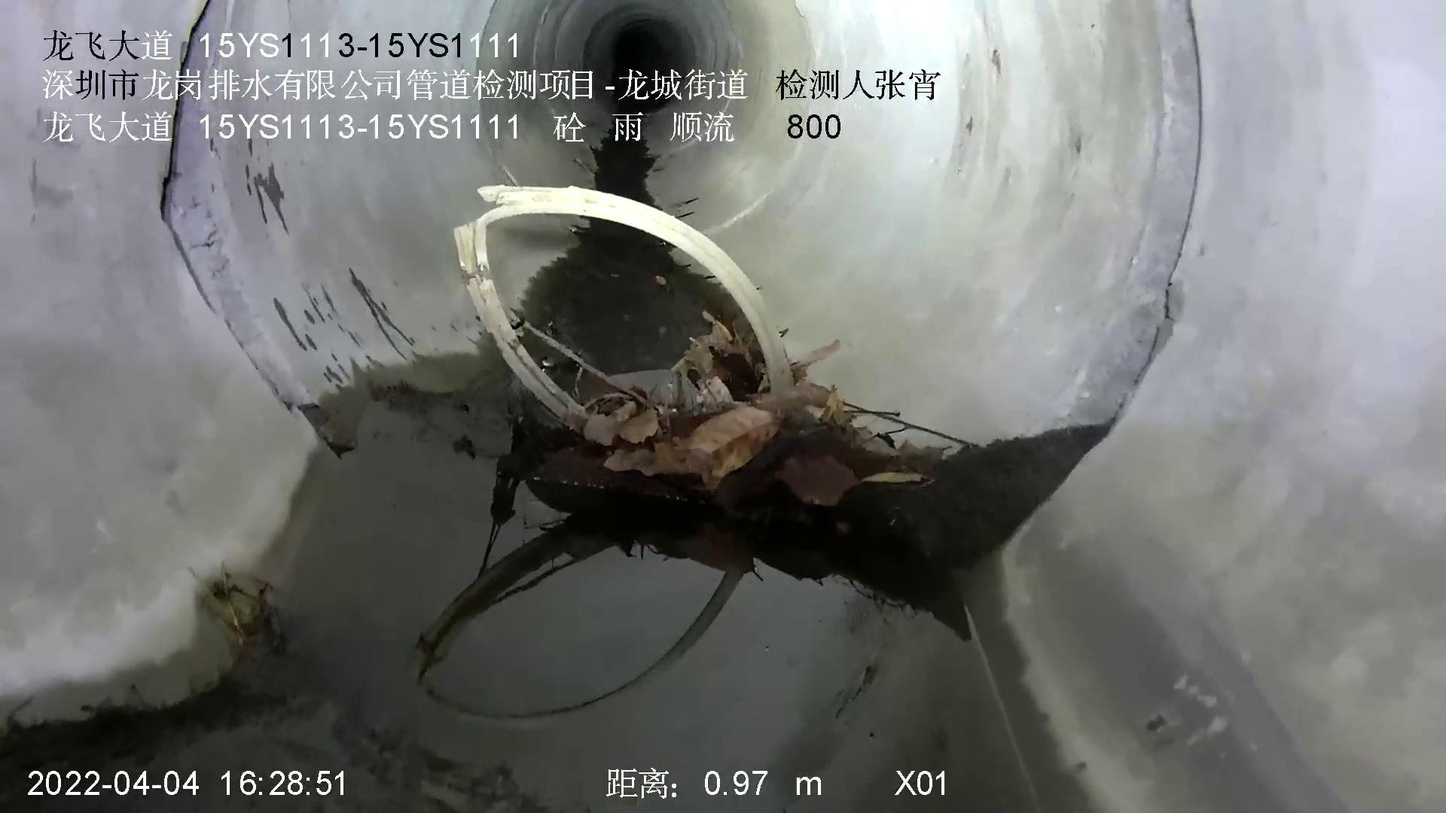ZAW: (456, 187, 1112, 601)
